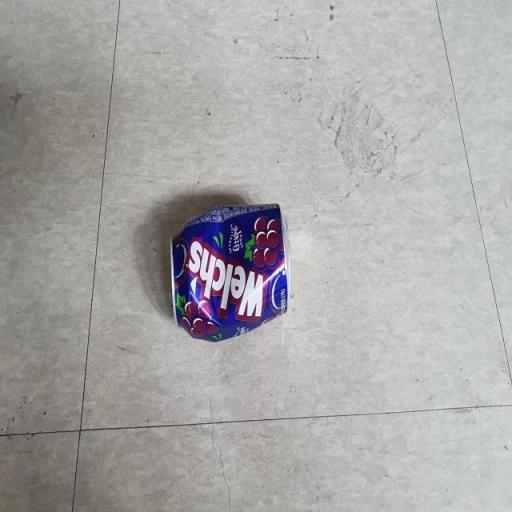metal: (157, 188, 313, 370)
